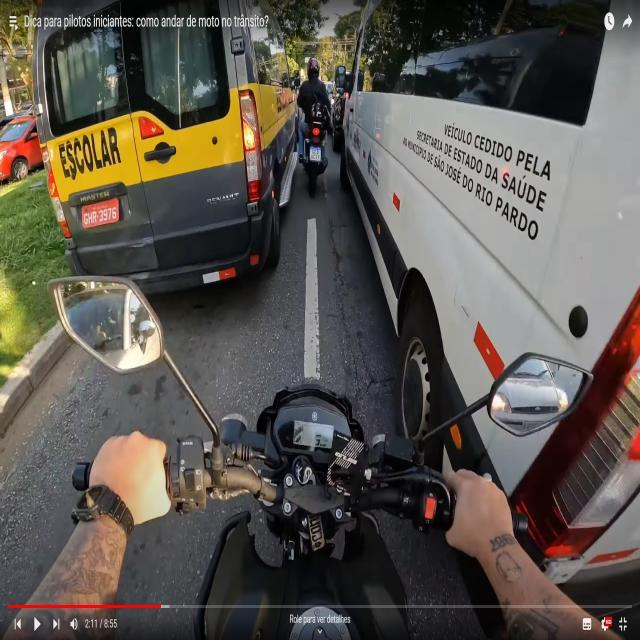placa_moto: (309, 141, 322, 164)
